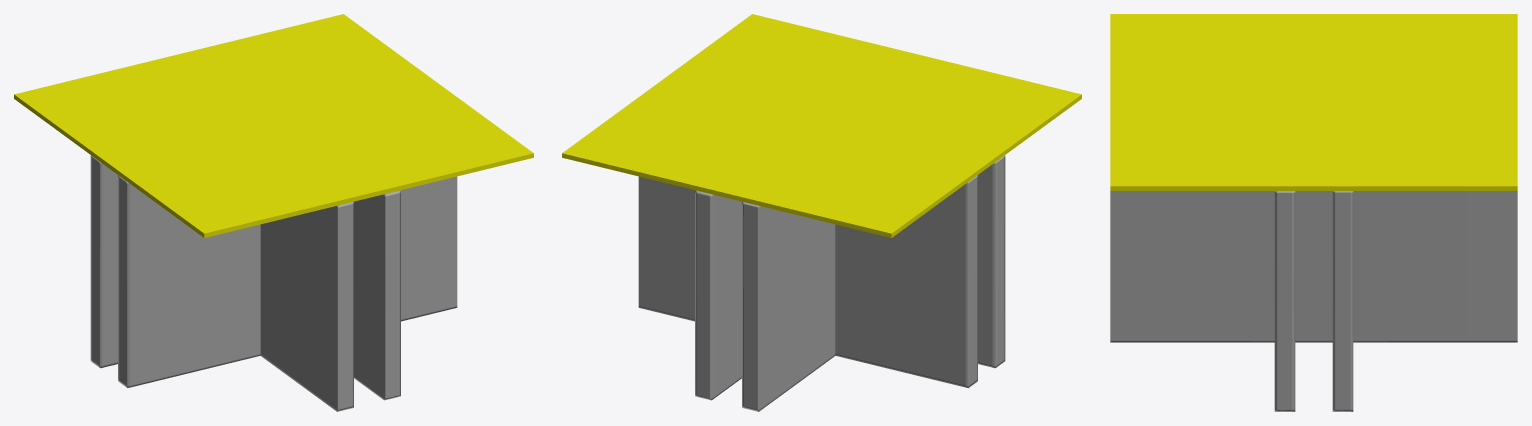
File: MesaCentro_low.fbx
The picture shows the model from 3 angles, left to right: view 1: azimuth 30°, elevation 25°; view 2: azimuth 150°, elevation 25°; view 3: azimuth 270°, elevation 25°; orthographic projection. The views are drawn at different scales.
Visible parts, largest first — view 1: Cristal, Base; view 2: Cristal, Base; view 3: Cristal, Base.
Part boxes in pixels (bbox=[...]): Cristal: bbox=[14, 14, 533, 237]; Base: bbox=[90, 155, 457, 411]; Cristal: bbox=[562, 14, 1081, 237]; Base: bbox=[638, 155, 1005, 411]; Cristal: bbox=[1110, 14, 1517, 190]; Base: bbox=[1110, 191, 1517, 411].
Size of the model in its own units: 77 by 47.05 by 77.
